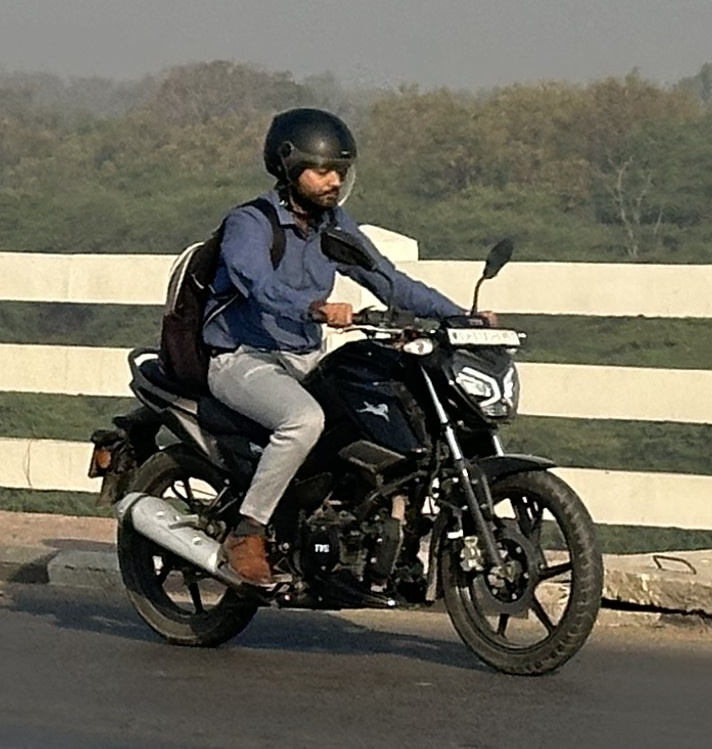BikeWithRider: (77, 96, 615, 684)
Helmet: (251, 98, 369, 221)
